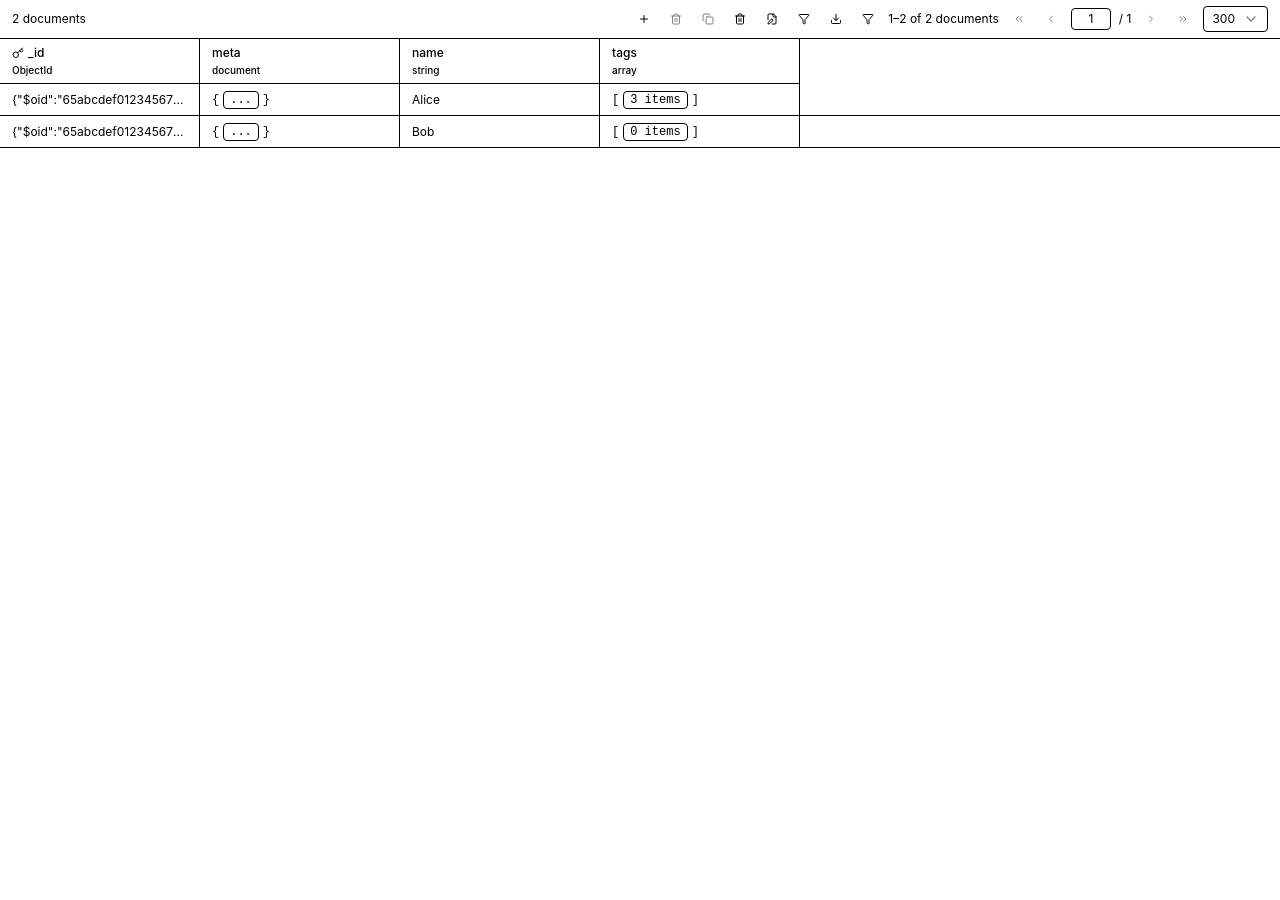
Scenario: DocumentDataGrid › Execute inside the MQL preview surfaces bulkWrite failures in the modal
Double-click the text "Alice": (426, 100) [412,92,440,108]
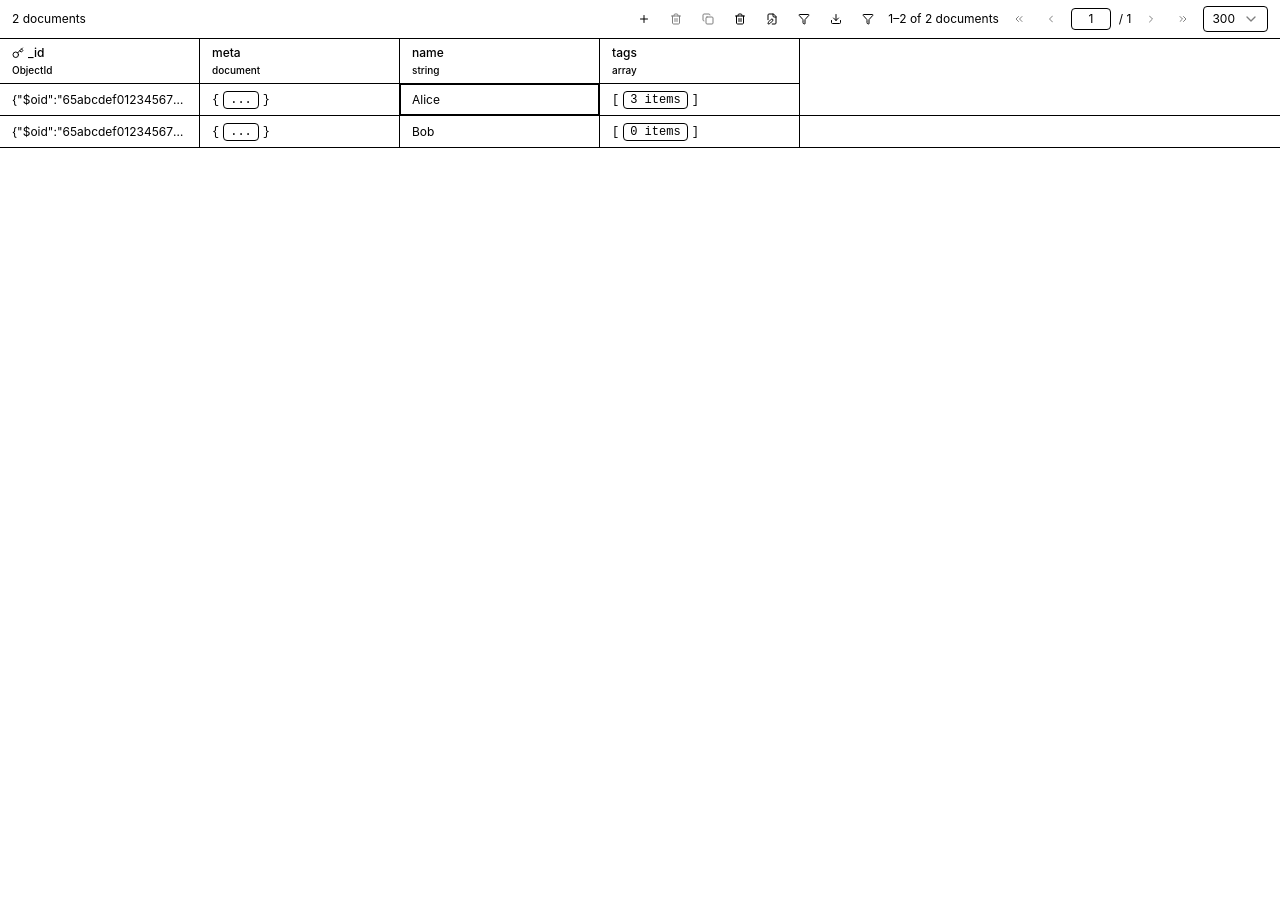
Replace the text in the field named "Editing name" with "Ada": (500, 100) [412,92,587,108]
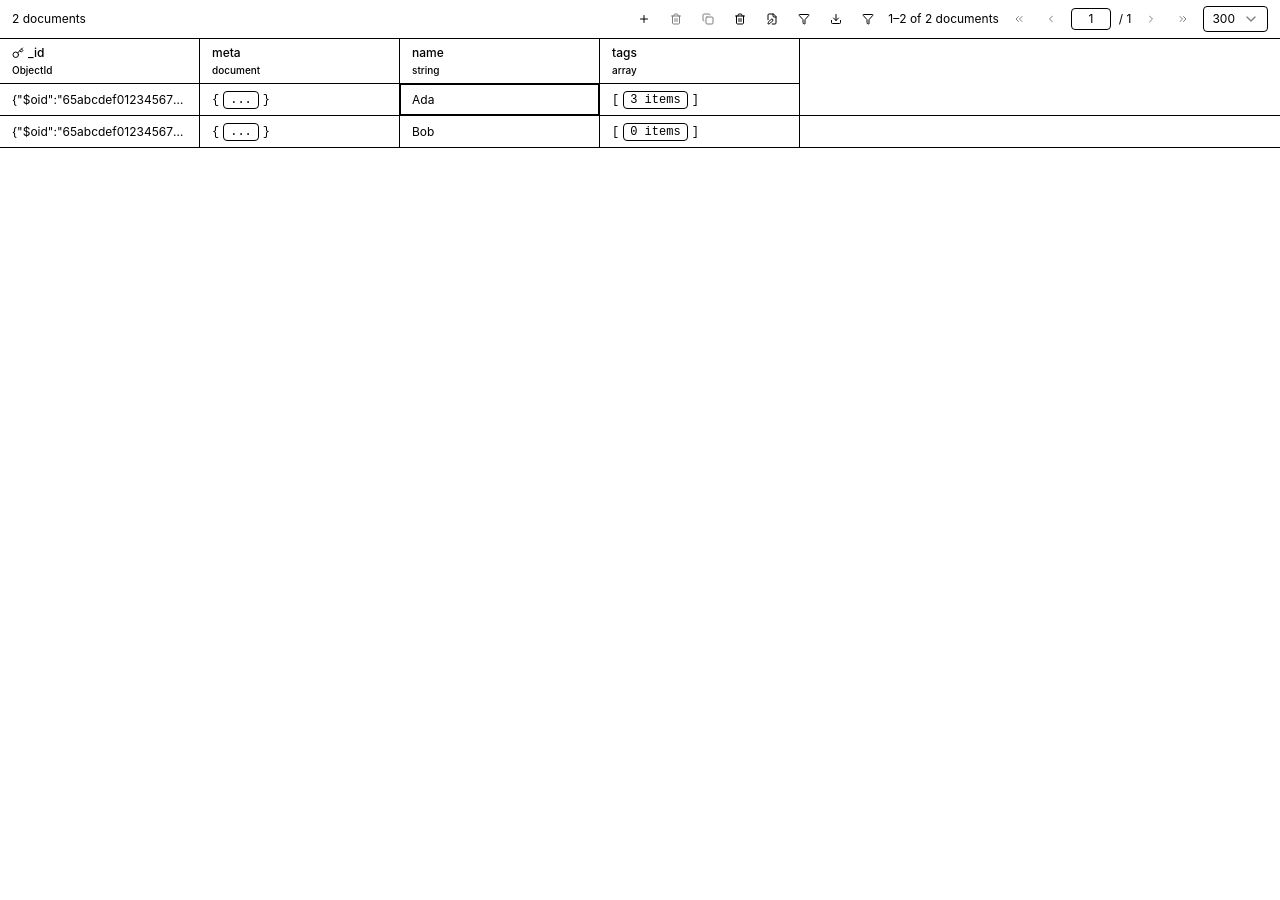
Press Enter in the field named "Editing name", box [412,92,587,108]
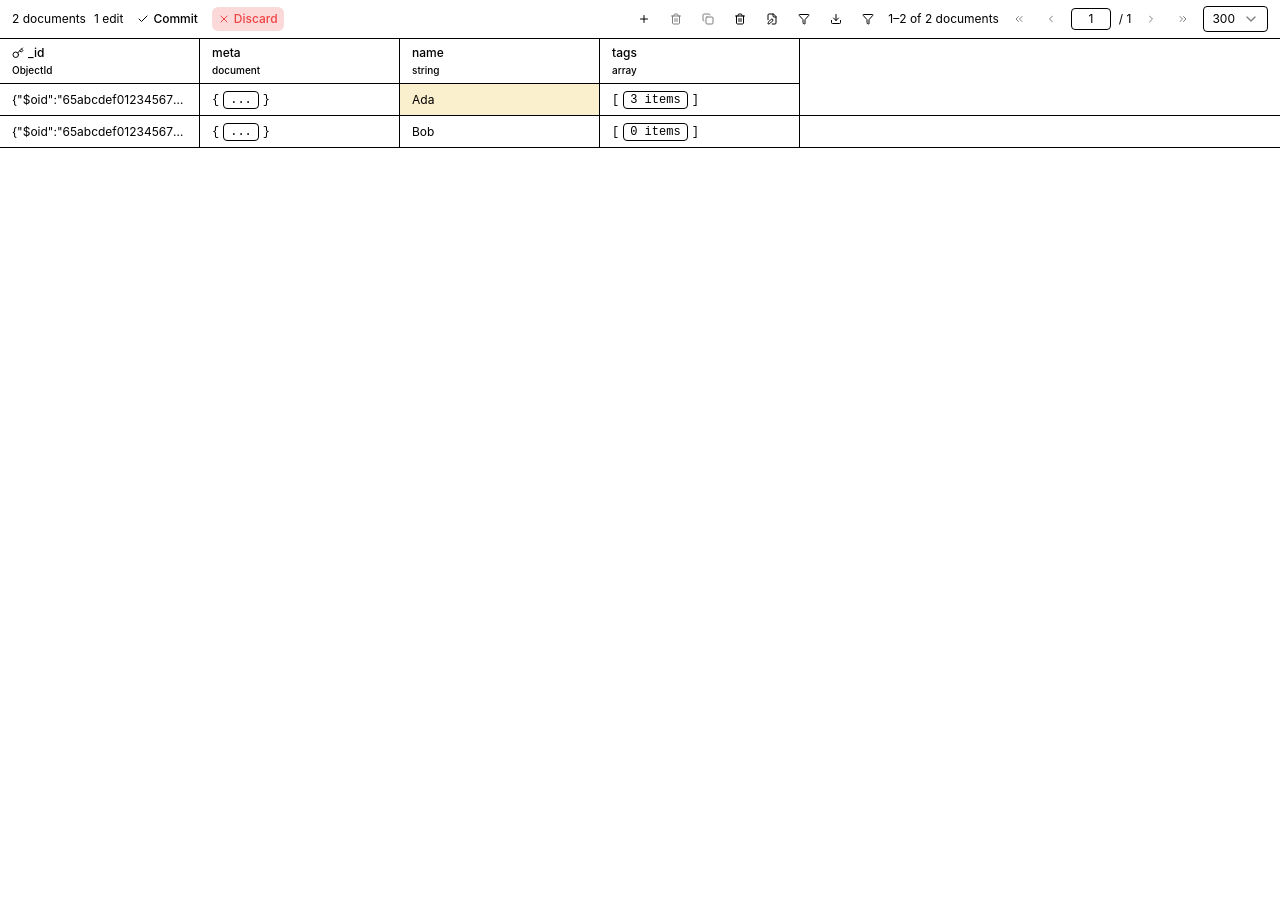
Click the button with aria-label "Commit changes": (168, 19) [131,7,204,31]
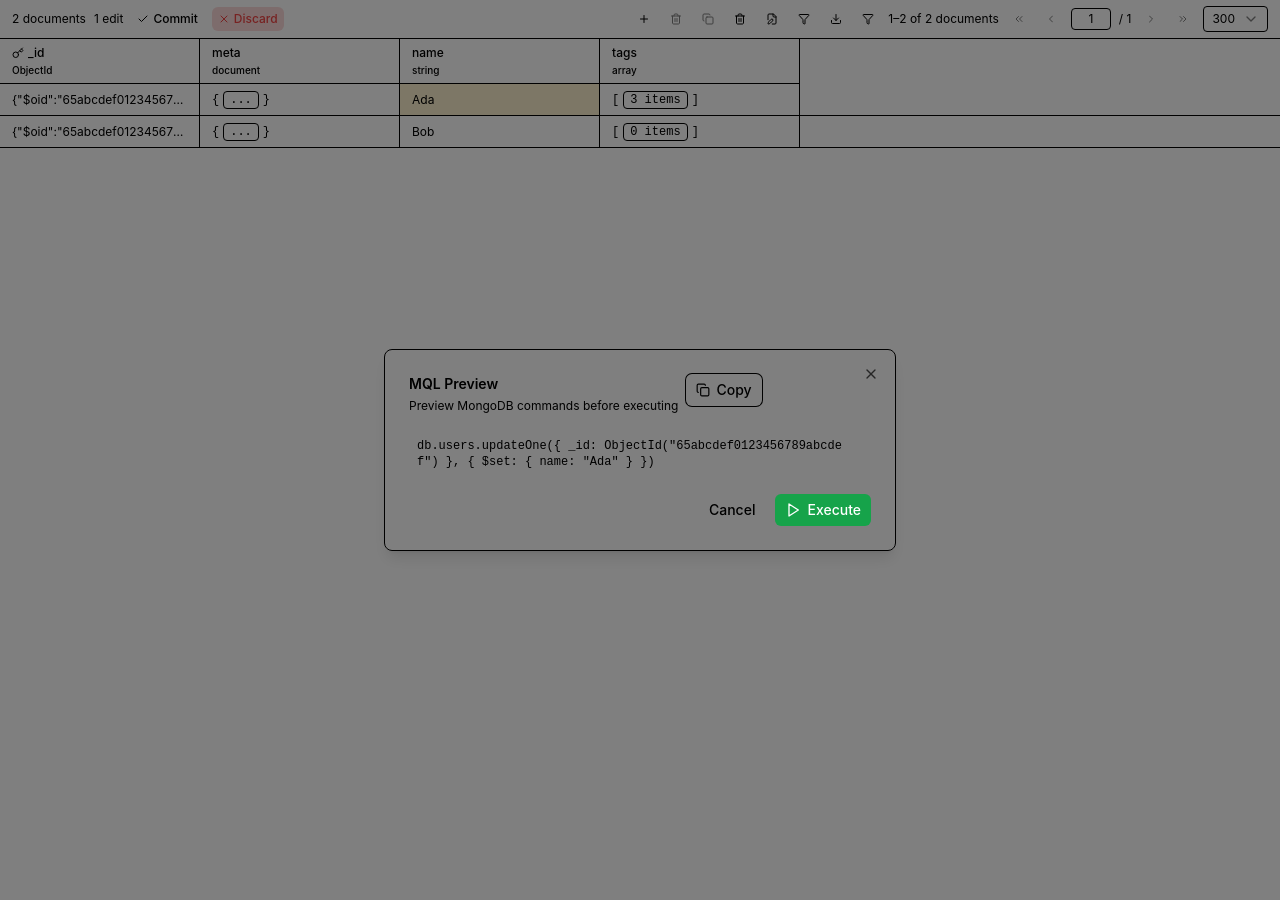
Click the button with aria-label "Execute MQL commands": (823, 510) [776,494,871,526]
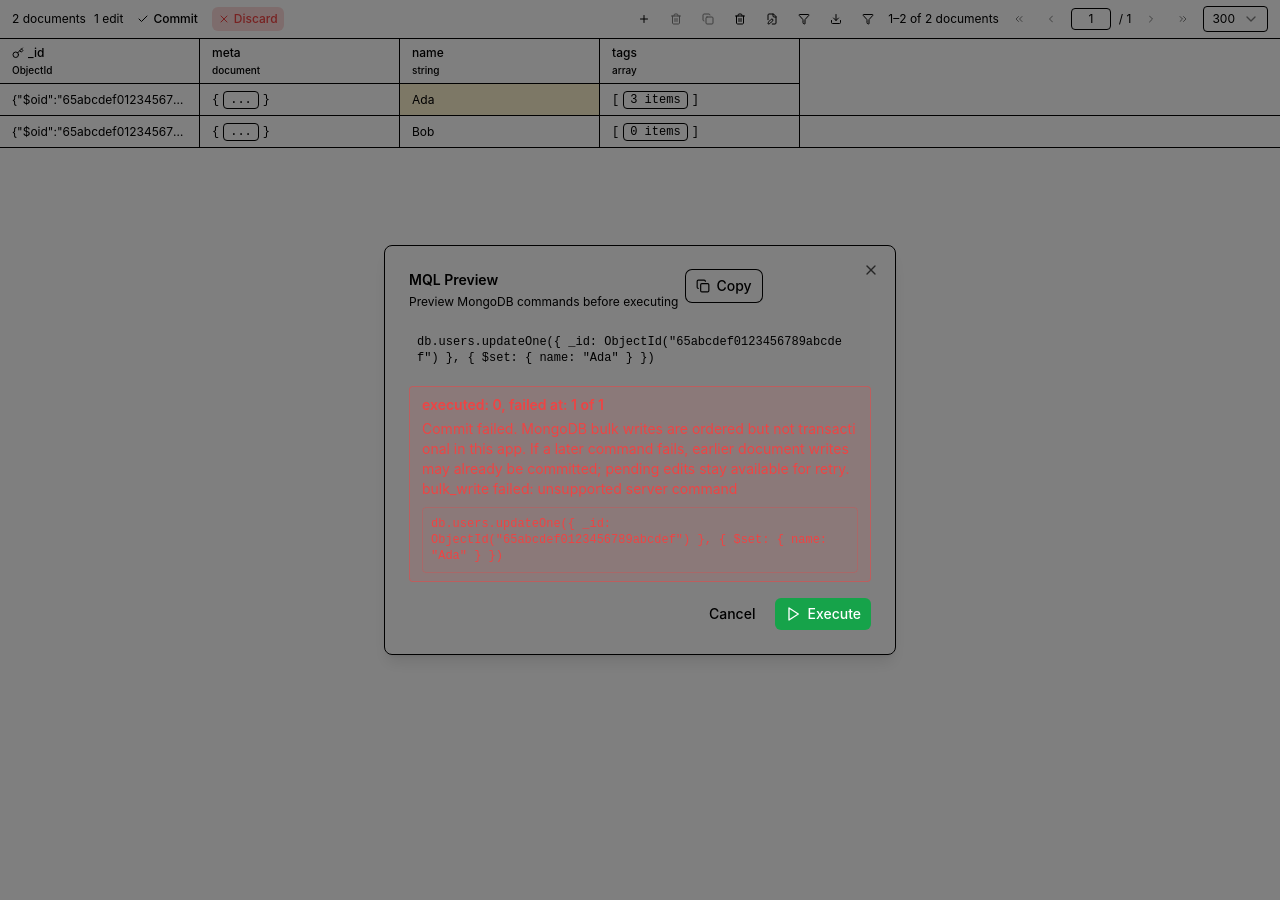
expect the message shows "unsupported server command": met, box [422,420,856,497]
expect the message shows "ordered but not transactional": met, box [422,420,856,497]
expect the message shows "earlier document writes may already be committed": met, box [422,420,856,497]
